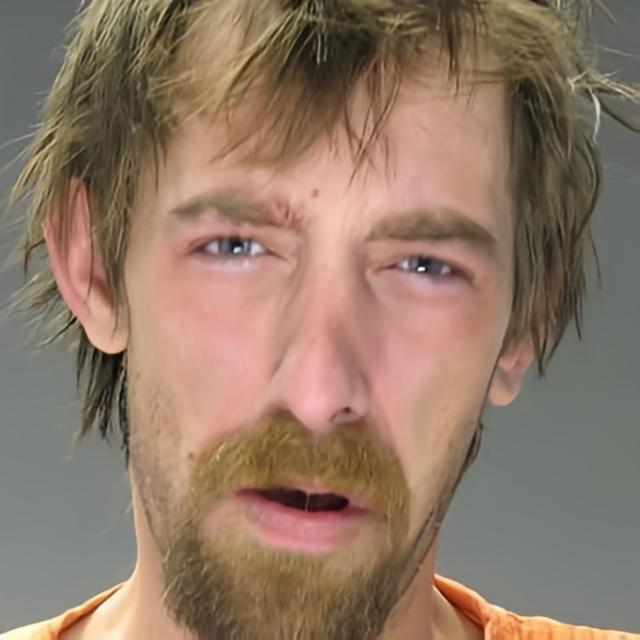disgust: (116, 43, 511, 620)
